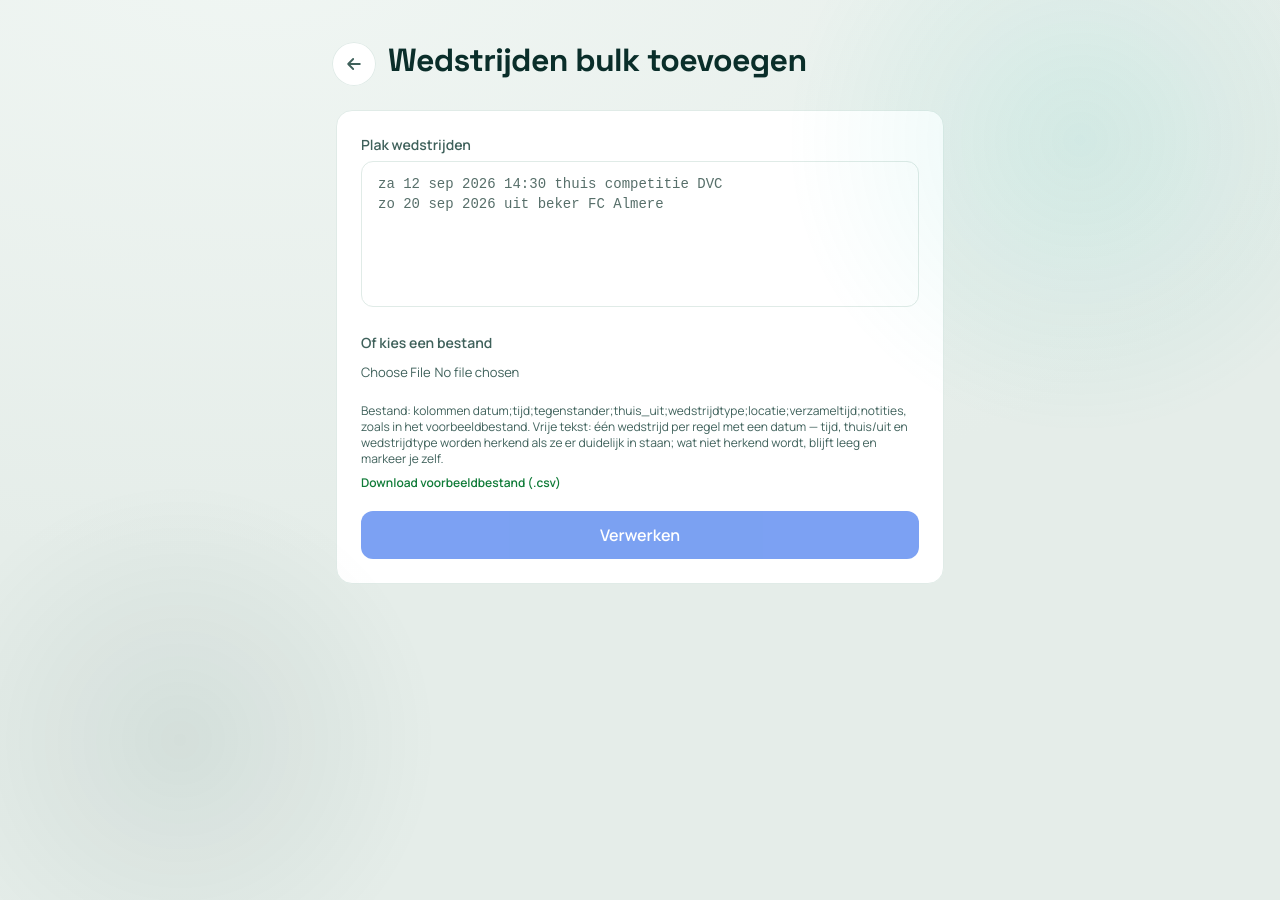
Scenario: Story-F6 — Ontbrekend verplicht veld blokkeert opslaan › een verplicht veld leegmaken in de preview blokkeert opslaan tot het hersteld is
This screenshot has width=1280, height=900.
Replace the text in the text box labelled "Plak wedstrijden" with "2026-09-12 14:30 thuis competitie DVC" at (640, 234), box [361,161,919,307]
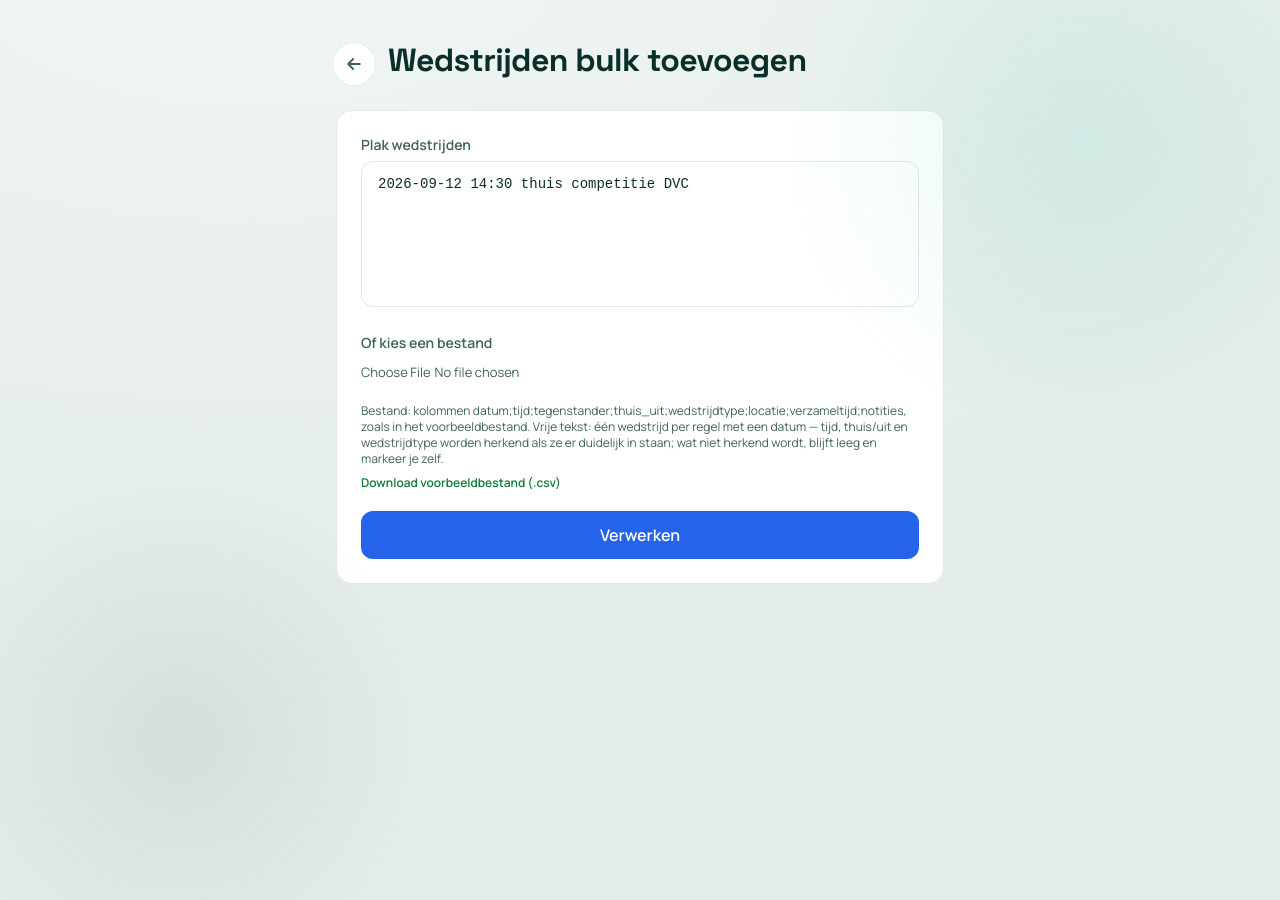
Click the button "Verwerken" at (640, 535), box [361,511,919,559]
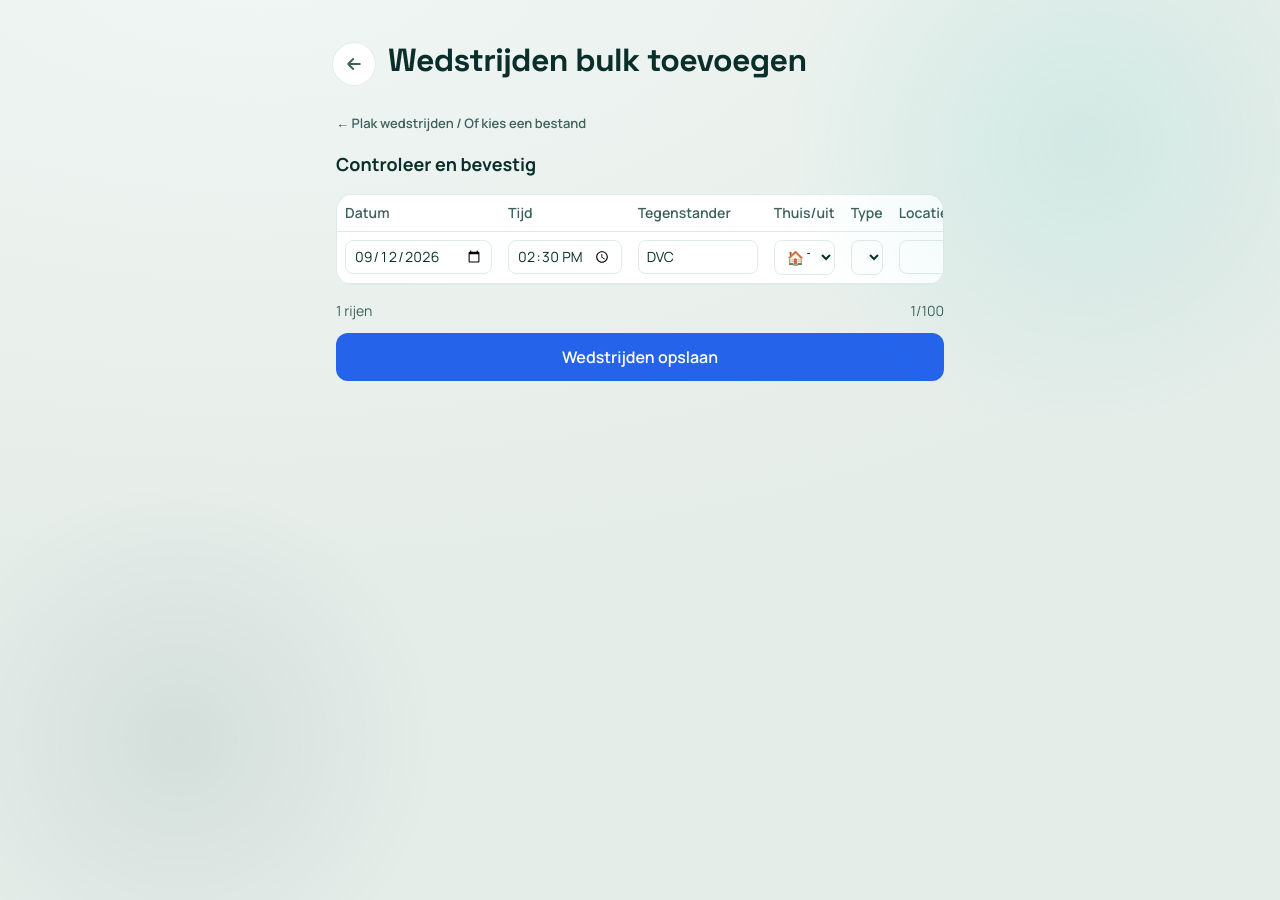
Expected: the button "Wedstrijden opslaan" is enabled, [336,332,944,380]
Clear the field named "Tegenstander" at (698, 256), box [638,240,758,274]
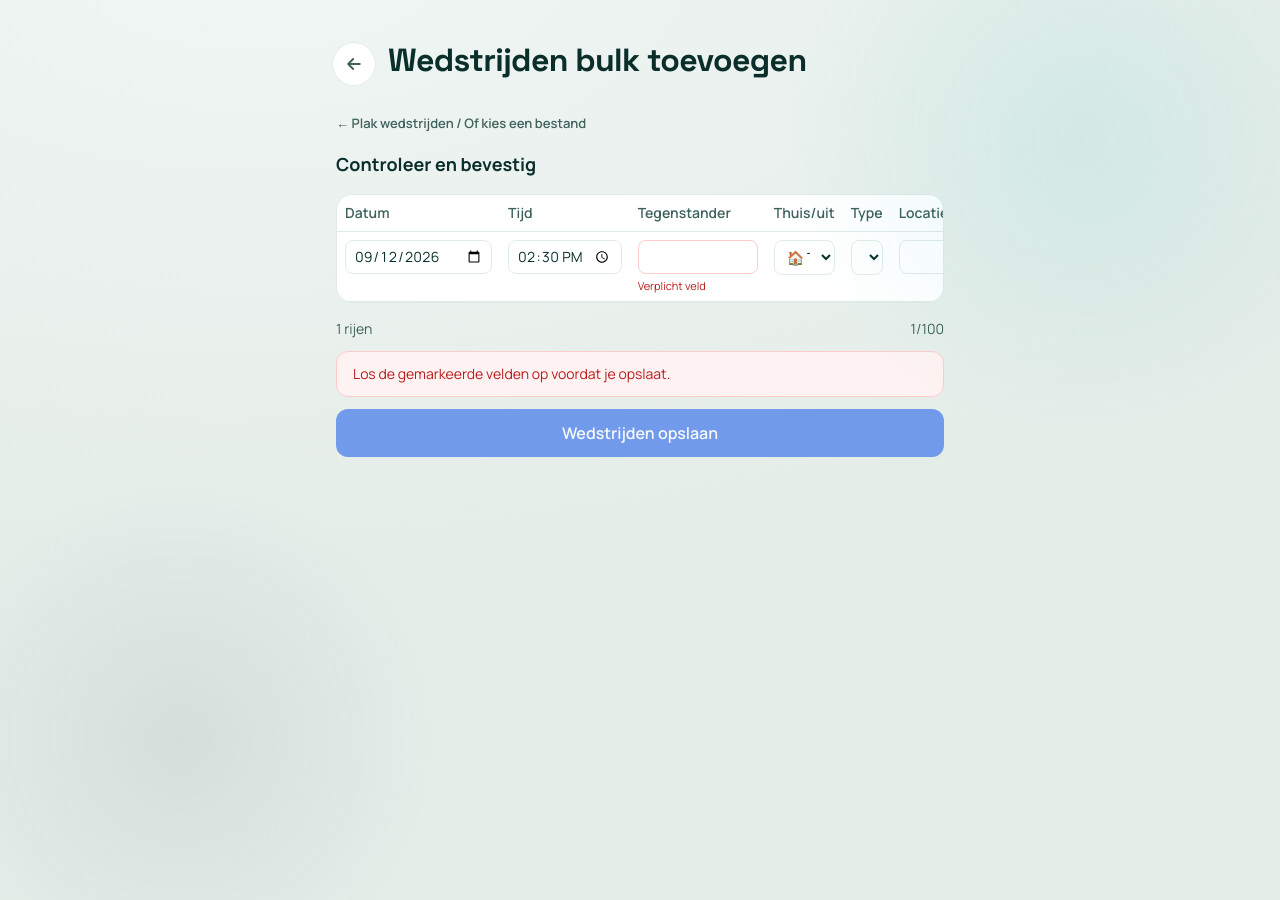
Expected: the button "Wedstrijden opslaan" is disabled, [336,409,944,457]
Expected: the text "Verplicht veld" is shown, [638,278,706,292]
Type "DVC" into the field named "Tegenstander" at (698, 256), box [638,240,758,274]
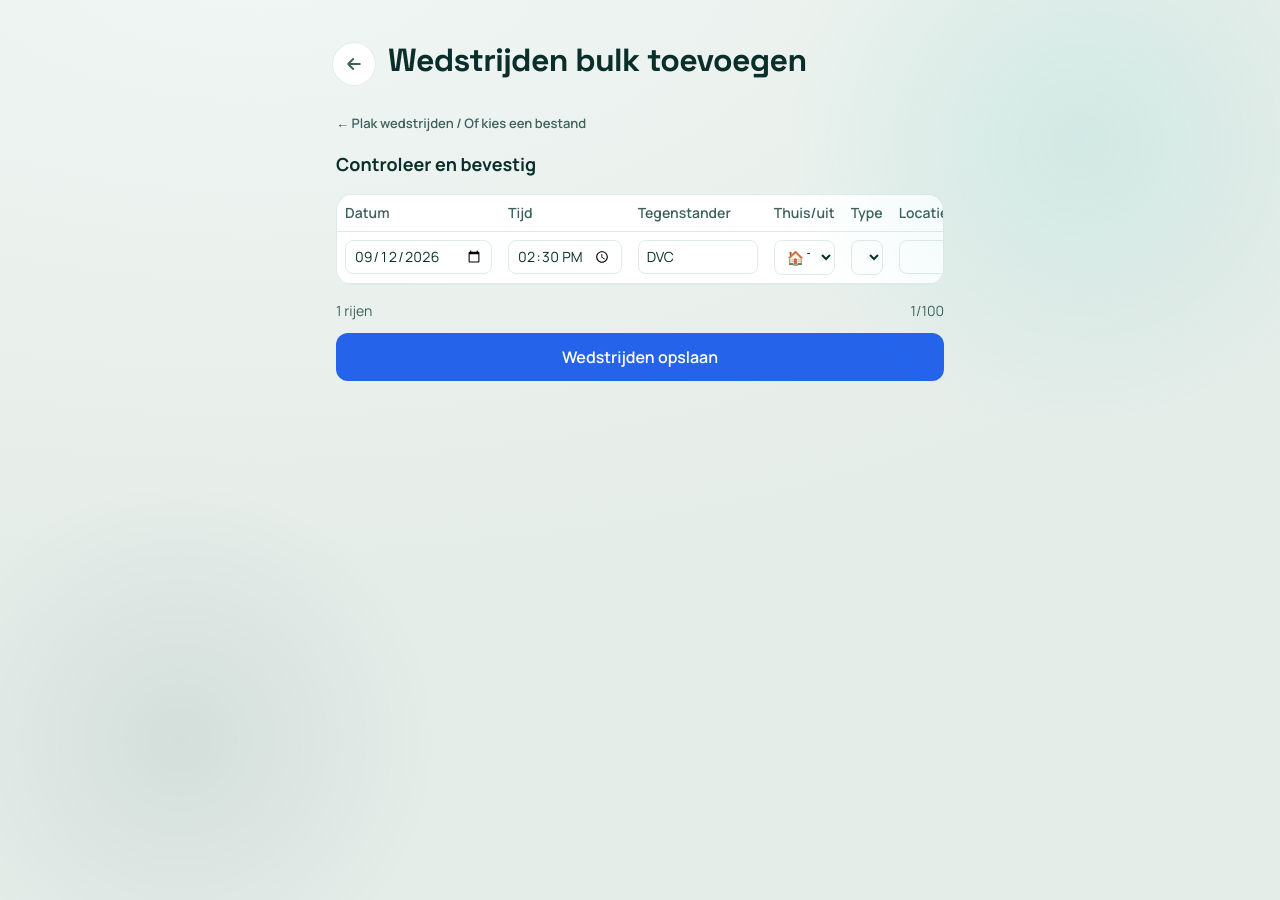
Expected: the button "Wedstrijden opslaan" is enabled, [336,332,944,380]
